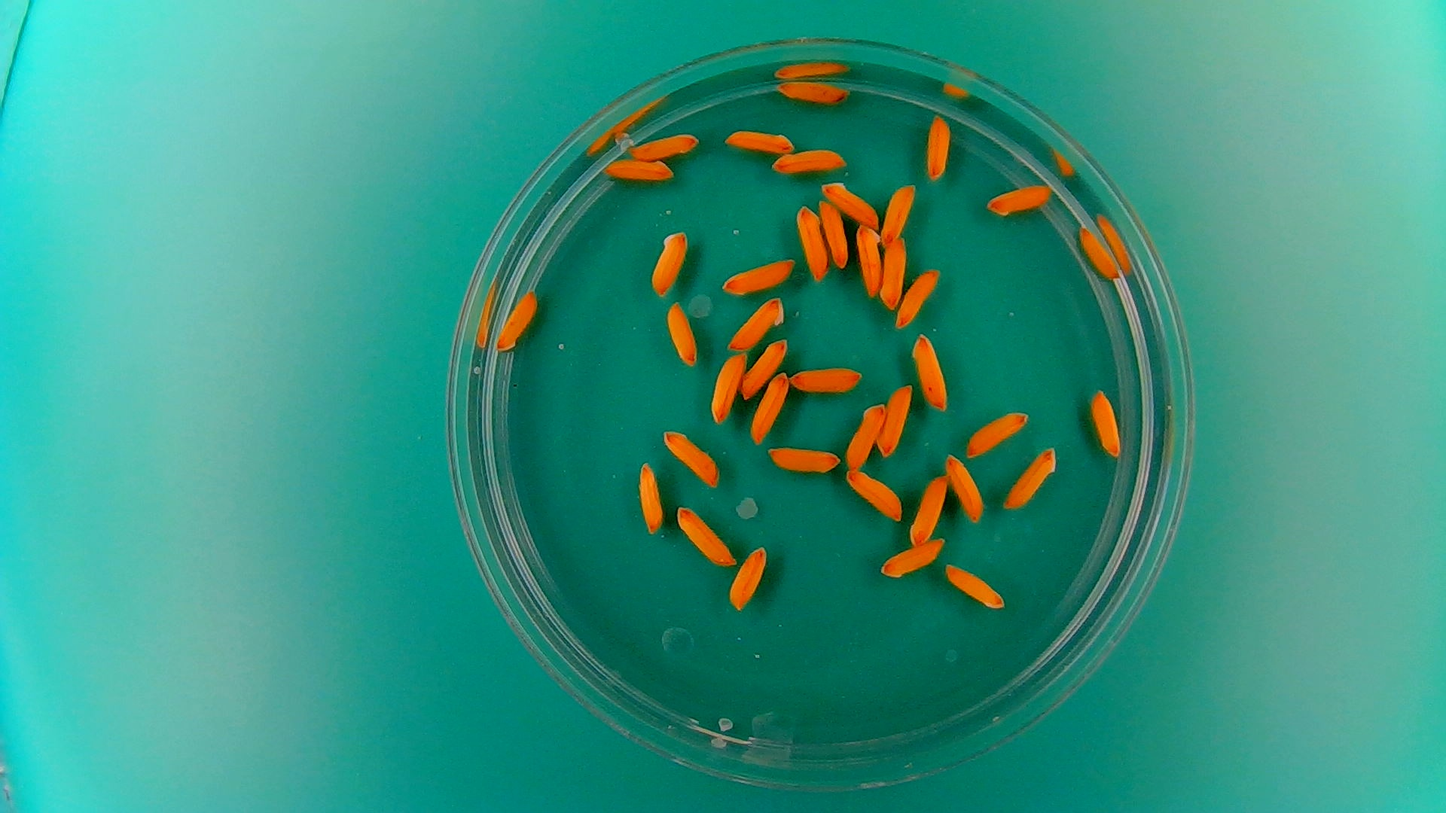no: (674, 502, 737, 566), (1003, 444, 1058, 510), (661, 428, 721, 488), (725, 294, 786, 351), (964, 406, 1030, 458), (909, 330, 950, 413), (844, 466, 905, 521), (740, 336, 789, 401), (749, 370, 791, 445), (908, 472, 950, 547), (944, 561, 1008, 610), (843, 399, 886, 471), (879, 535, 946, 580), (876, 381, 915, 458), (819, 179, 880, 228), (944, 451, 986, 522), (894, 266, 941, 329), (719, 257, 796, 295), (709, 350, 748, 425), (650, 226, 691, 297), (727, 544, 770, 611), (793, 202, 829, 282), (494, 288, 538, 352), (984, 179, 1054, 218), (766, 443, 843, 477), (1089, 385, 1124, 458), (878, 181, 917, 246), (1076, 223, 1121, 279), (789, 364, 864, 396), (853, 220, 883, 298), (770, 145, 848, 175), (818, 199, 850, 272), (636, 458, 665, 535), (723, 124, 797, 154), (664, 299, 697, 366), (879, 234, 908, 309), (923, 110, 953, 181), (774, 78, 850, 105), (601, 156, 674, 182)
